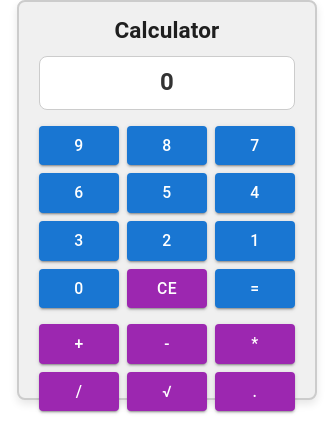
Test case: Calculator Component › should update the display when numbers are clicked
The image size is (335, 431).
Click the button "1": (255, 241) x1=215 y1=221 x2=295 y2=261
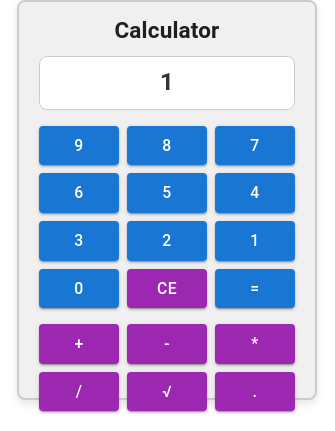
Click the button "2": (167, 241) x1=127 y1=221 x2=207 y2=261
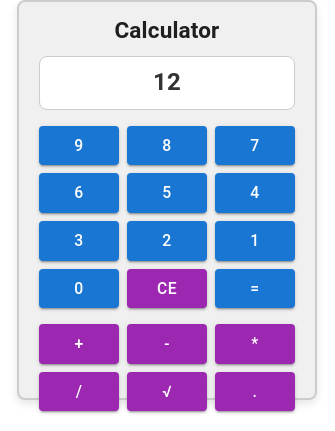
Check: the field holds "12", box x1=48 y1=61 x2=286 y2=105
